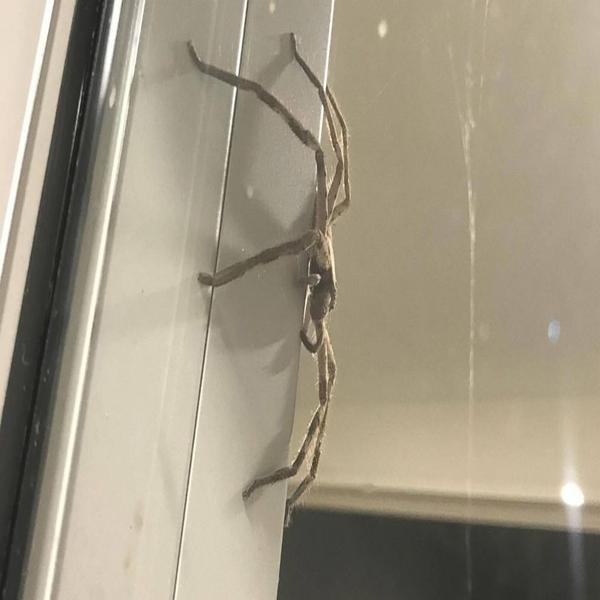Huntsman Spider: (190, 34, 358, 508)
